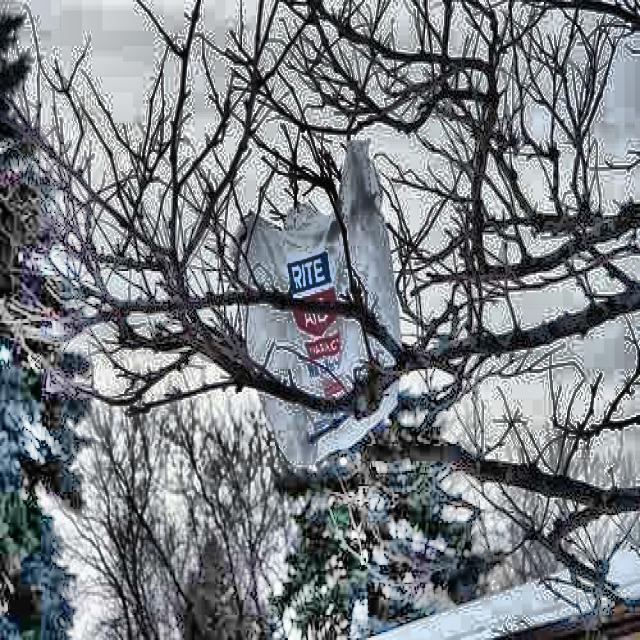Plastic: (227, 136, 436, 456)
